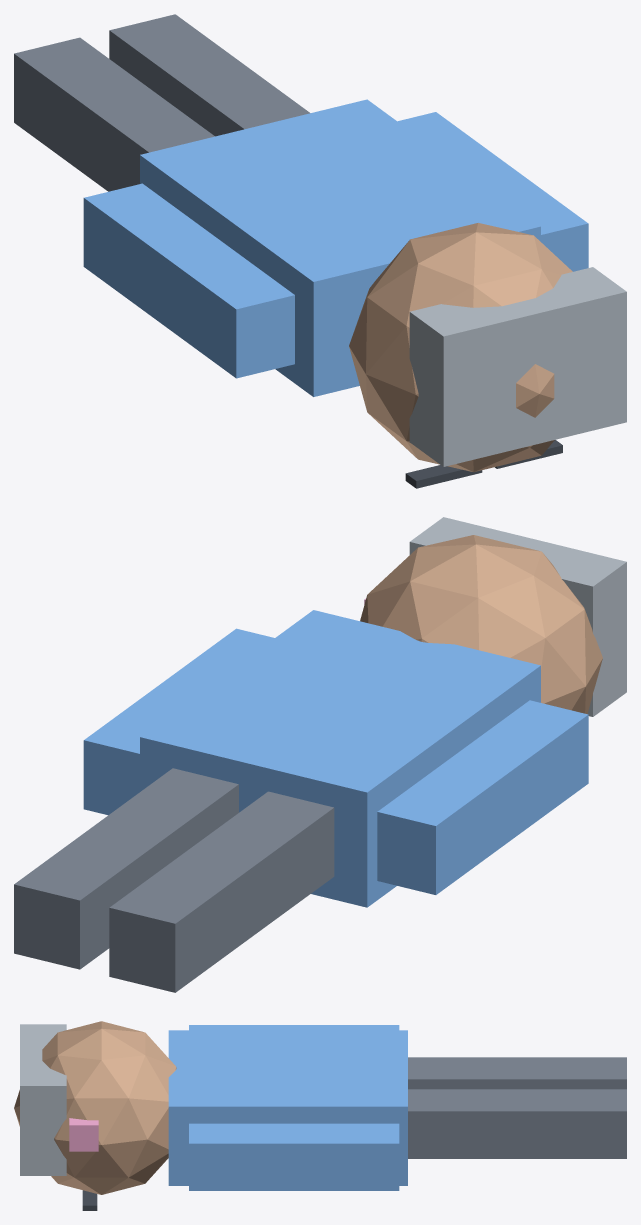
The model's file is junior_variant_2.glb.
3 views of the same model, one above another, from view 1: azimuth 30°, elevation 25°; view 2: azimuth 150°, elevation 25°; view 3: azimuth 270°, elevation 25° (orthographic). The views are drawn at different scales.
Visible parts, largest first — view 1: torso_2, hair_6, arm_l_3, head_5, leg_l_0, leg_r_1, arm_r_4, glasses_l_7; view 2: torso_2, leg_l_0, arm_l_3, head_5, leg_r_1, arm_r_4, hair_6; view 3: torso_2, head_5, leg_r_1, arm_r_4, leg_l_0, hair_6, arm_l_3, earring_or_badge_9, glasses_r_8.
Boxes of the visible parts, bbox=[...] form: torso_2: bbox=[140, 99, 540, 396]; hair_6: bbox=[409, 267, 626, 466]; arm_l_3: bbox=[83, 183, 294, 378]; head_5: bbox=[349, 223, 572, 472]; leg_l_0: bbox=[14, 37, 214, 191]; leg_r_1: bbox=[109, 14, 310, 136]; arm_r_4: bbox=[397, 112, 588, 271]; glasses_l_7: bbox=[405, 465, 482, 488]; torso_2: bbox=[140, 610, 540, 907]; leg_l_0: bbox=[109, 791, 334, 992]; arm_l_3: bbox=[377, 700, 588, 894]; head_5: bbox=[360, 535, 602, 714]; leg_r_1: bbox=[14, 768, 238, 969]; arm_r_4: bbox=[83, 628, 274, 815]; hair_6: bbox=[409, 517, 626, 716]; torso_2: bbox=[168, 1030, 407, 1185]; head_5: bbox=[14, 1021, 176, 1194]; leg_r_1: bbox=[408, 1089, 626, 1158]; arm_r_4: bbox=[189, 1123, 399, 1190]; leg_l_0: bbox=[408, 1057, 626, 1089]; hair_6: bbox=[20, 1024, 66, 1175]; arm_l_3: bbox=[189, 1025, 399, 1030]; earring_or_badge_9: bbox=[69, 1118, 98, 1151]; glasses_r_8: bbox=[82, 1190, 97, 1210].
Size of the model in its own units: 0.96 by 0.6 by 2.1.
